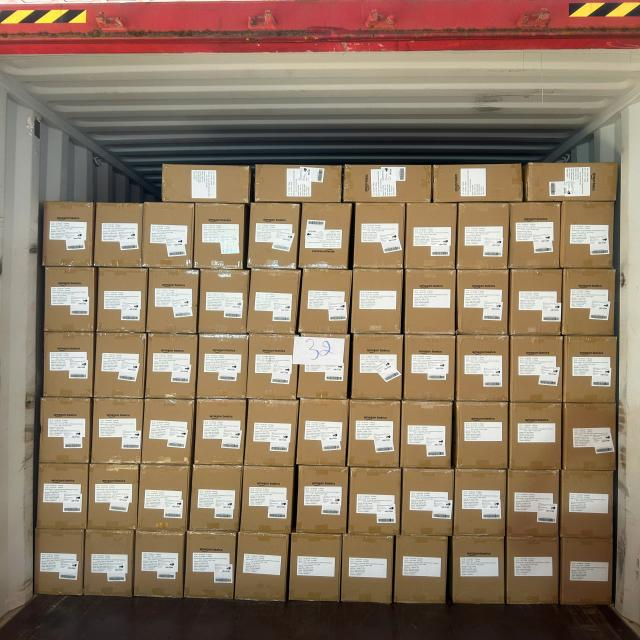Carton: (396, 536, 450, 608), (455, 536, 507, 609), (512, 332, 566, 402), (457, 399, 511, 469), (508, 266, 562, 336), (560, 538, 614, 608), (504, 538, 558, 608), (560, 470, 615, 538), (458, 334, 512, 403), (562, 332, 615, 402), (243, 463, 296, 533), (561, 266, 614, 336), (136, 462, 188, 532), (347, 397, 399, 467), (525, 165, 616, 205), (508, 401, 560, 471), (234, 531, 286, 601), (246, 395, 297, 466), (343, 536, 393, 608), (508, 199, 560, 268), (142, 397, 194, 466), (562, 200, 614, 269), (402, 466, 454, 535), (562, 400, 614, 469), (506, 468, 558, 537), (289, 533, 341, 602), (190, 462, 241, 532), (298, 199, 349, 269), (194, 397, 245, 467), (295, 332, 348, 399), (300, 395, 350, 466), (36, 526, 86, 597), (351, 266, 403, 334), (346, 468, 398, 536), (351, 332, 403, 400), (186, 533, 238, 601), (295, 464, 346, 533), (460, 200, 511, 269), (90, 396, 141, 465), (402, 398, 452, 468), (407, 202, 457, 272), (404, 332, 454, 402), (456, 468, 508, 535), (148, 332, 200, 399), (93, 331, 144, 399), (459, 268, 510, 336), (42, 397, 93, 465), (406, 268, 457, 336), (150, 266, 201, 334), (251, 202, 301, 271), (133, 529, 183, 598), (354, 201, 404, 270), (86, 461, 136, 530), (38, 462, 88, 531), (250, 269, 302, 335), (434, 167, 524, 205), (298, 267, 349, 334), (143, 201, 193, 269), (196, 202, 246, 270), (95, 266, 145, 334), (47, 264, 97, 332), (46, 330, 96, 398), (87, 528, 136, 597), (343, 168, 433, 205), (163, 168, 250, 206), (200, 267, 249, 334), (250, 333, 299, 400), (199, 333, 248, 400), (97, 202, 145, 270), (46, 198, 95, 264), (254, 168, 339, 205)
